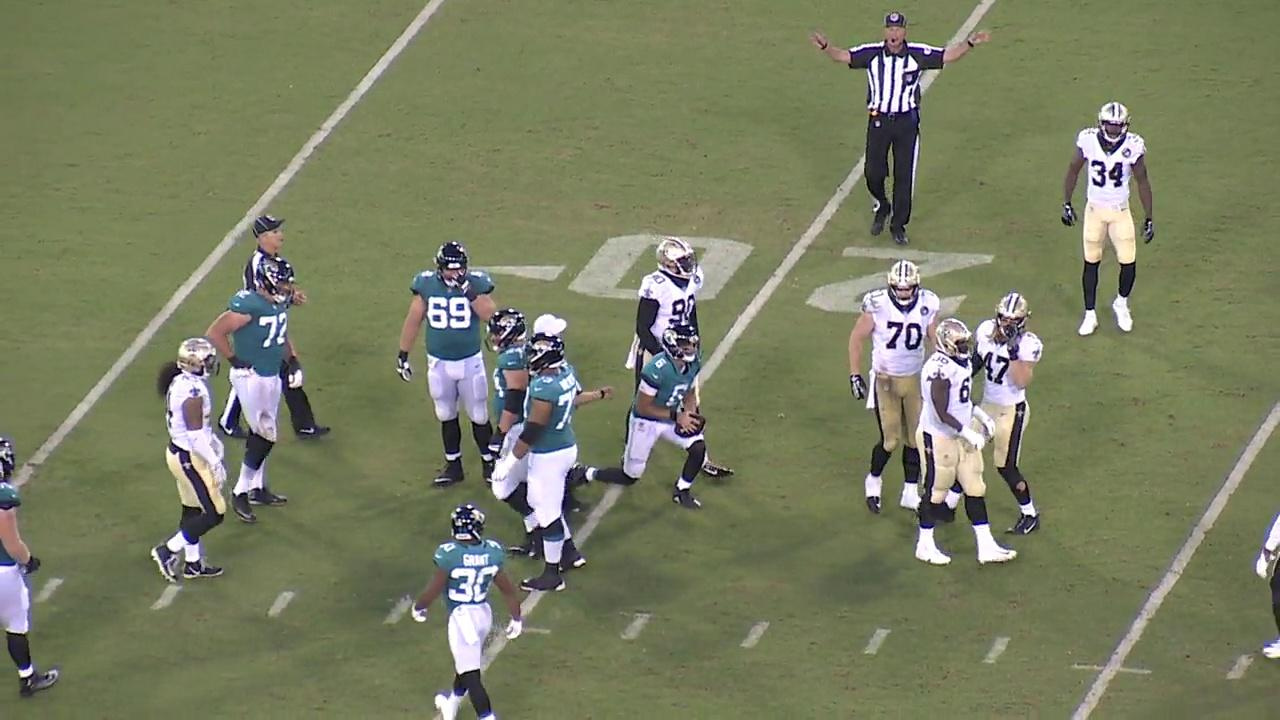five_hash: (1064, 658, 1161, 679)
hash: (976, 628, 1017, 672), (376, 594, 417, 633), (615, 609, 656, 647), (260, 585, 302, 622), (147, 577, 186, 616), (860, 622, 896, 662), (1216, 652, 1259, 681), (738, 617, 773, 651), (34, 571, 66, 606)
